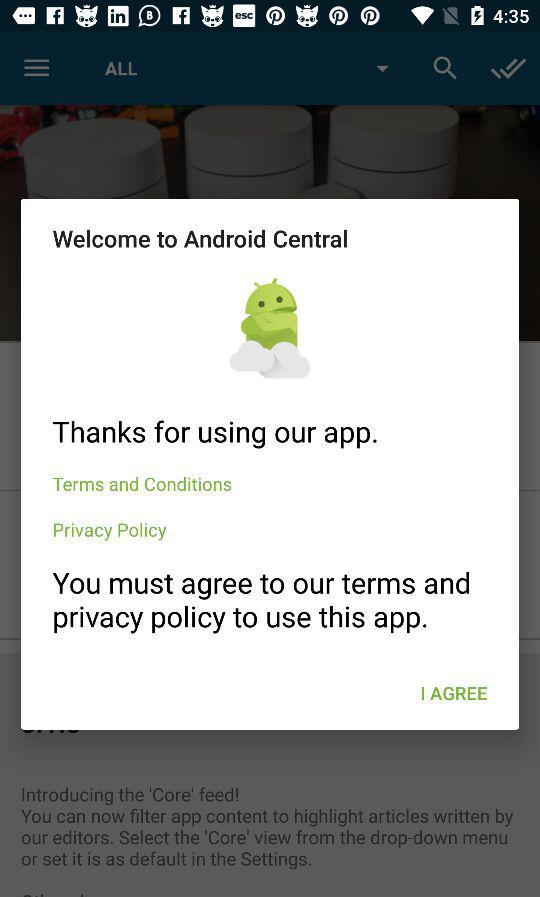Icon: (490, 58, 526, 81), (434, 56, 457, 81), (24, 59, 51, 78)
Image: (229, 278, 312, 380)
Modal: (21, 199, 520, 731)
Text: (21, 786, 514, 870), (53, 572, 470, 635), (53, 420, 378, 450), (53, 229, 349, 251), (53, 476, 233, 493), (54, 521, 167, 542), (421, 685, 488, 702), (106, 61, 139, 78)
UpperTaskBar: (1, 1, 540, 33)
